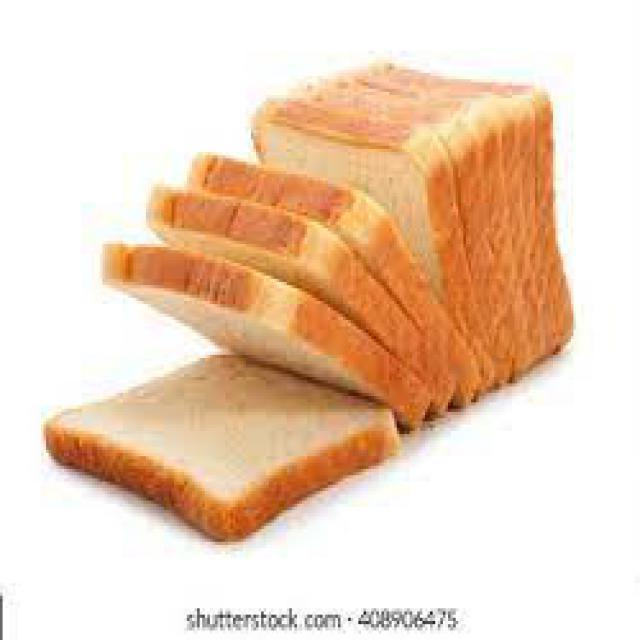Bread: (49, 61, 576, 538)
